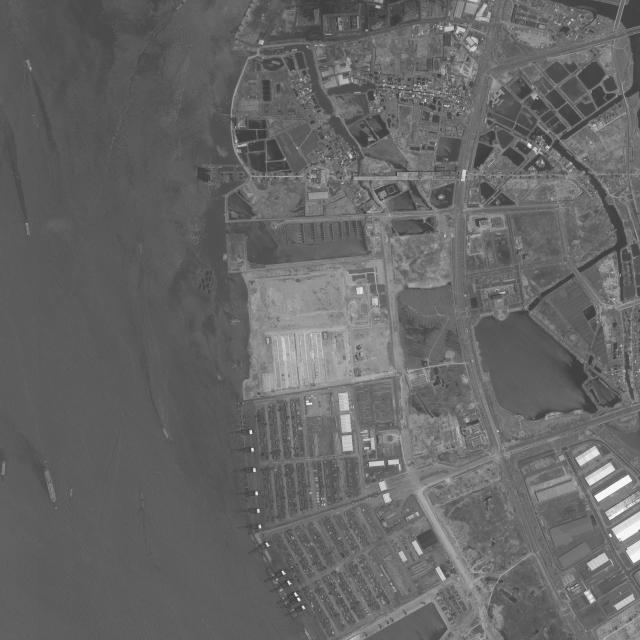ship: (265, 566, 300, 621), (43, 467, 57, 503), (301, 625, 313, 640), (173, 0, 188, 11), (139, 491, 145, 510), (31, 114, 39, 128), (26, 59, 34, 73), (229, 26, 240, 35), (248, 532, 256, 543), (162, 427, 169, 439), (261, 554, 268, 564), (254, 542, 261, 552), (1, 461, 6, 475), (25, 223, 30, 235), (245, 486, 249, 500), (243, 468, 247, 480), (241, 445, 245, 456), (216, 373, 221, 381), (239, 427, 243, 437), (237, 402, 241, 412), (69, 488, 73, 498), (233, 361, 237, 370), (240, 363, 244, 371), (188, 44, 193, 50), (139, 243, 142, 253), (231, 320, 240, 323), (223, 253, 226, 262), (230, 319, 239, 321), (225, 253, 227, 262), (230, 323, 238, 325), (369, 117, 373, 119)
